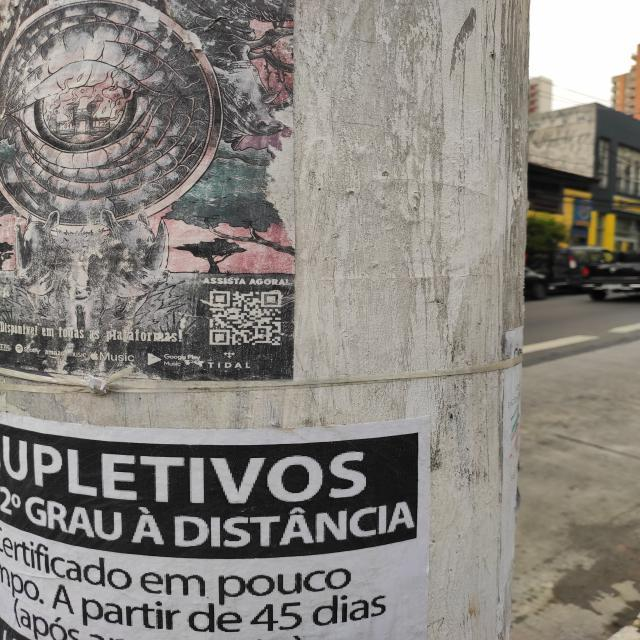qrcode: (210, 293, 283, 347)
